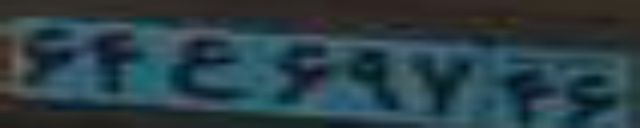4: (501, 69, 559, 126), (90, 33, 144, 92)
6: (266, 42, 335, 103), (412, 54, 475, 113), (20, 28, 77, 88), (563, 73, 619, 126)
9: (347, 48, 400, 110)
ain: (166, 38, 241, 100)
